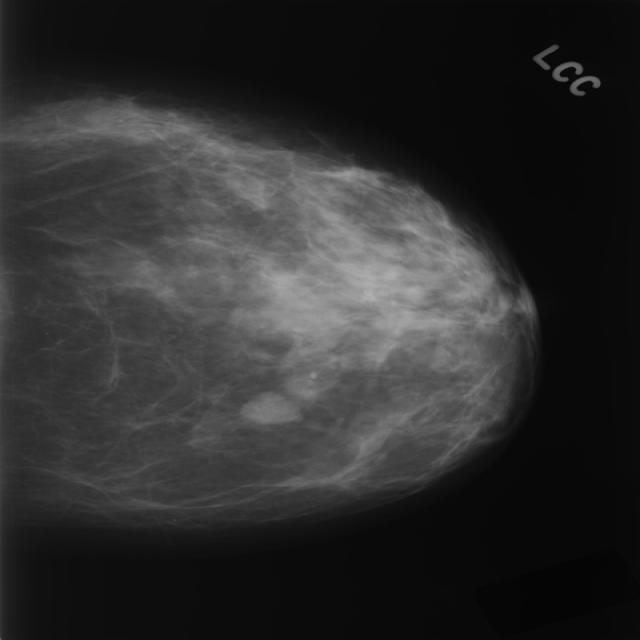tumour: (236, 389, 301, 424)
